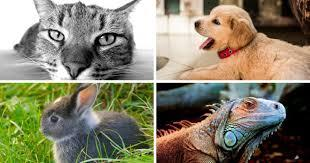Non_Gorille: (0, 1, 304, 163)
